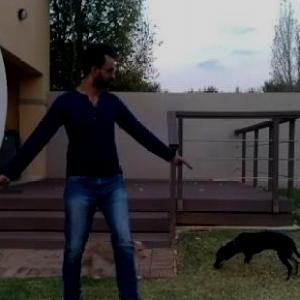land: (0, 32, 199, 299)
